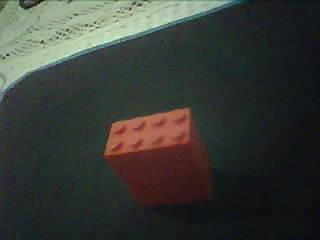lego: (101, 106, 213, 207)
